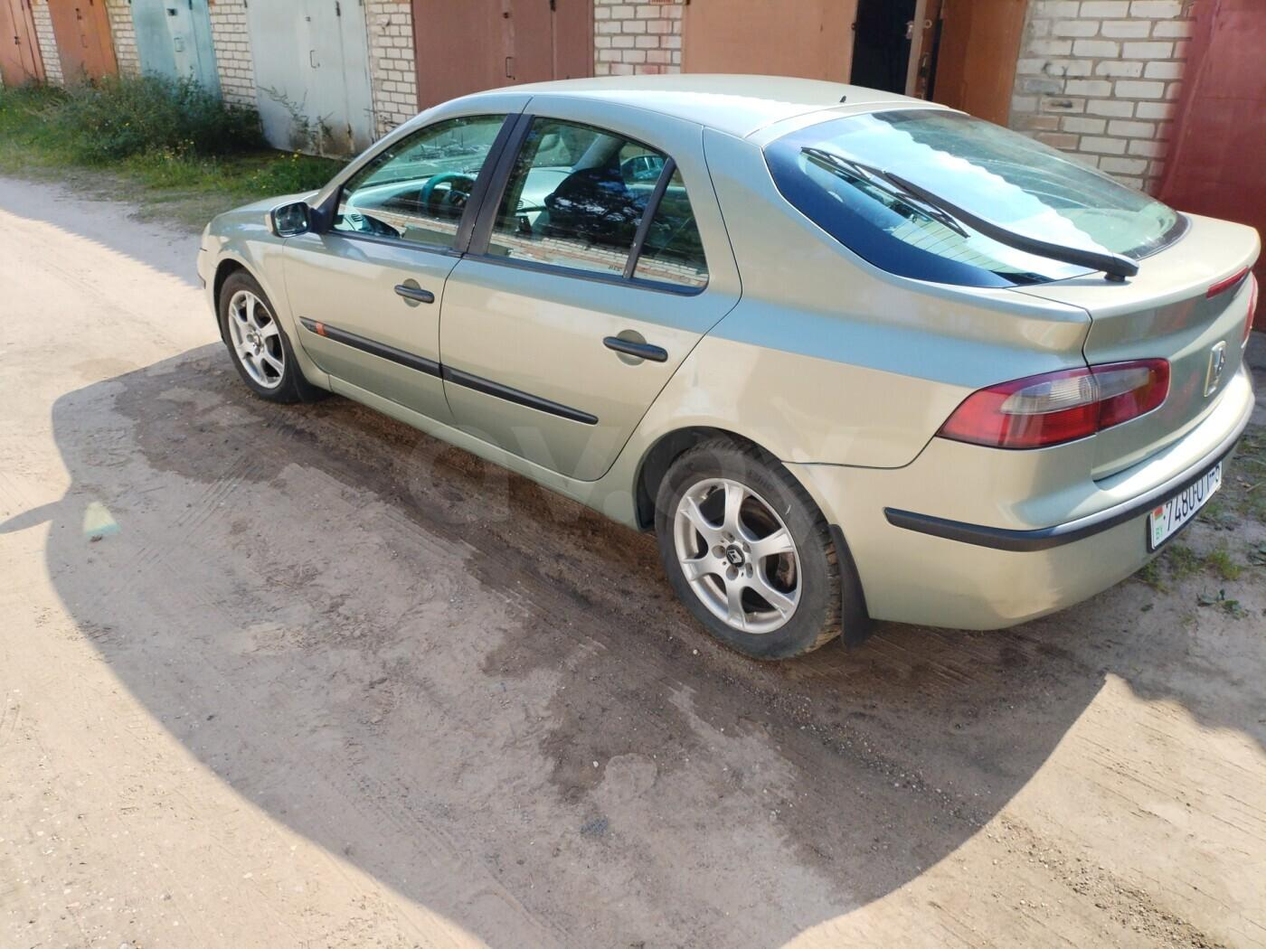Laguna_2001-2005: (198, 74, 1265, 658)
